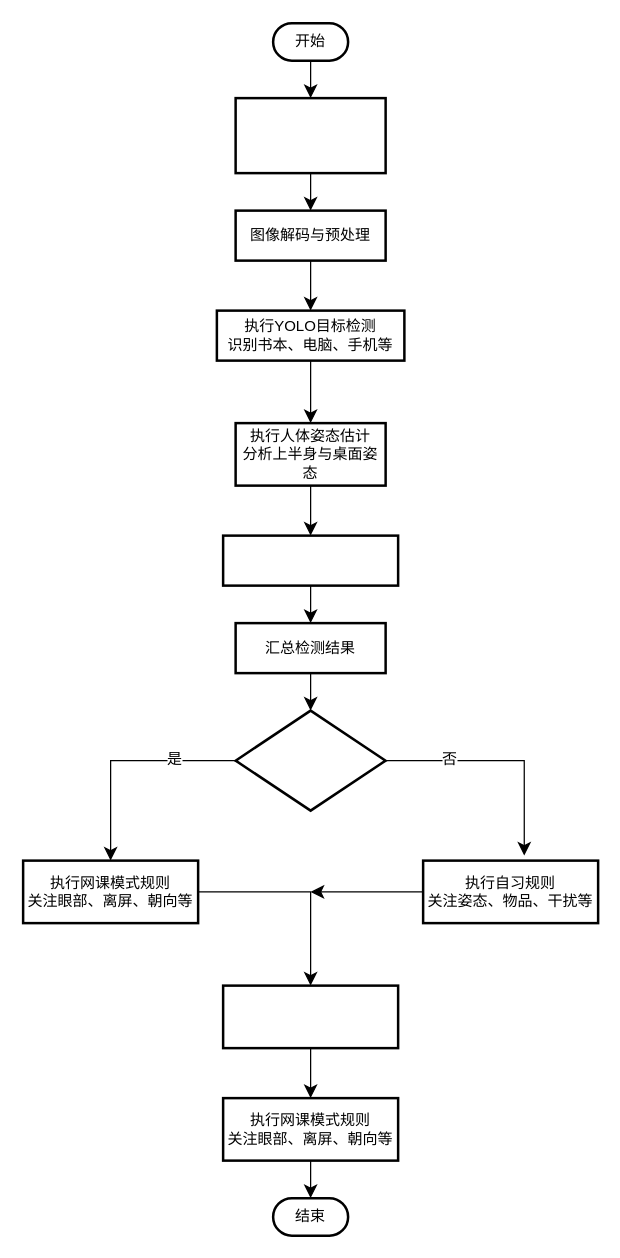
Image size: 620x1258. Some labels were removed from this diagram. Each missing label, with the centre of its shape:
"执行人脸与眼部分析 计算眼部开合与头部姿态" belongs at (x=310, y=560).
"接收终端图像 与分析模式参数" belongs at (x=310, y=135).
"是否为网课模式" belongs at (x=310, y=760).
"融合多元特征 生成专注状态与风险提示" belongs at (x=310, y=1016).
